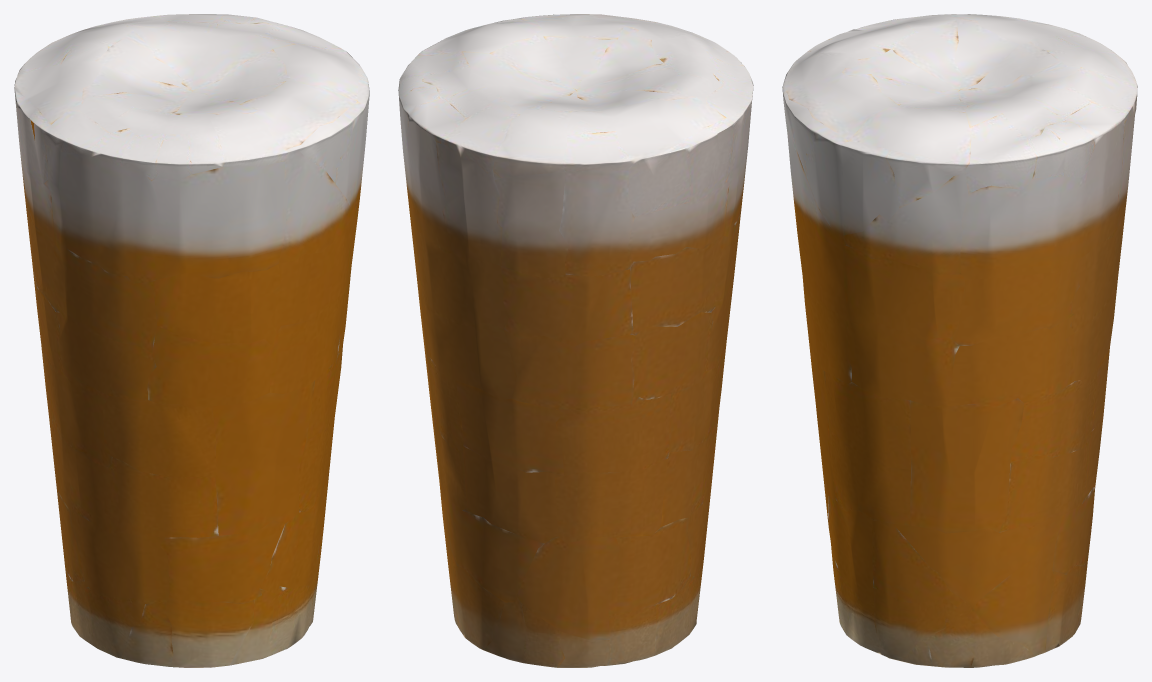
Rendered from copo.glb.
The picture shows the model from 3 angles, left to right: view 1: azimuth 30°, elevation 25°; view 2: azimuth 150°, elevation 25°; view 3: azimuth 270°, elevation 25°; orthographic projection.
Visible parts, largest first — view 1: Copo americano; view 2: Copo americano; view 3: Copo americano.
Boxes of the visible parts, box(x1,y1,x2,y2) form: Copo americano: box(14, 14, 369, 667); Copo americano: box(398, 14, 753, 667); Copo americano: box(782, 14, 1137, 667).
Bounding box in the file's own units: 0.0546 × 0.0928 × 0.0545.
Materials: 1 (1 with a texture image).
